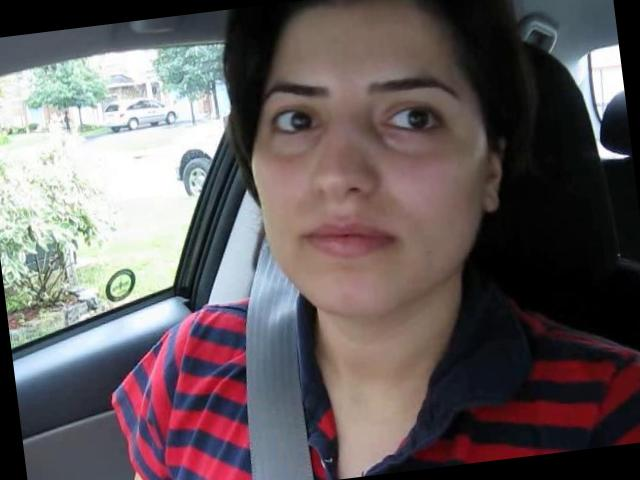eye_open: (376, 92, 454, 148), (264, 96, 330, 149)
face: (238, 41, 494, 336)
